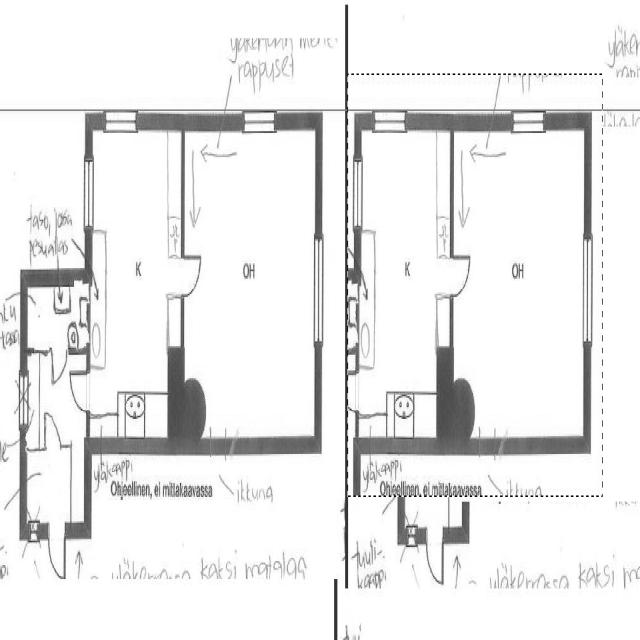door: (447, 243, 475, 304), (423, 521, 447, 591), (177, 246, 205, 303), (46, 520, 69, 584), (68, 363, 94, 416), (42, 409, 62, 454)
window: (311, 228, 327, 355), (580, 228, 595, 358), (366, 101, 411, 140), (506, 103, 552, 140), (239, 105, 280, 139), (100, 102, 141, 136), (351, 151, 366, 236), (80, 155, 96, 234), (16, 368, 32, 438), (349, 368, 362, 418), (26, 525, 42, 548)
zone: (182, 122, 322, 444), (450, 122, 590, 444), (355, 123, 453, 442), (88, 119, 182, 444), (24, 272, 90, 352)
